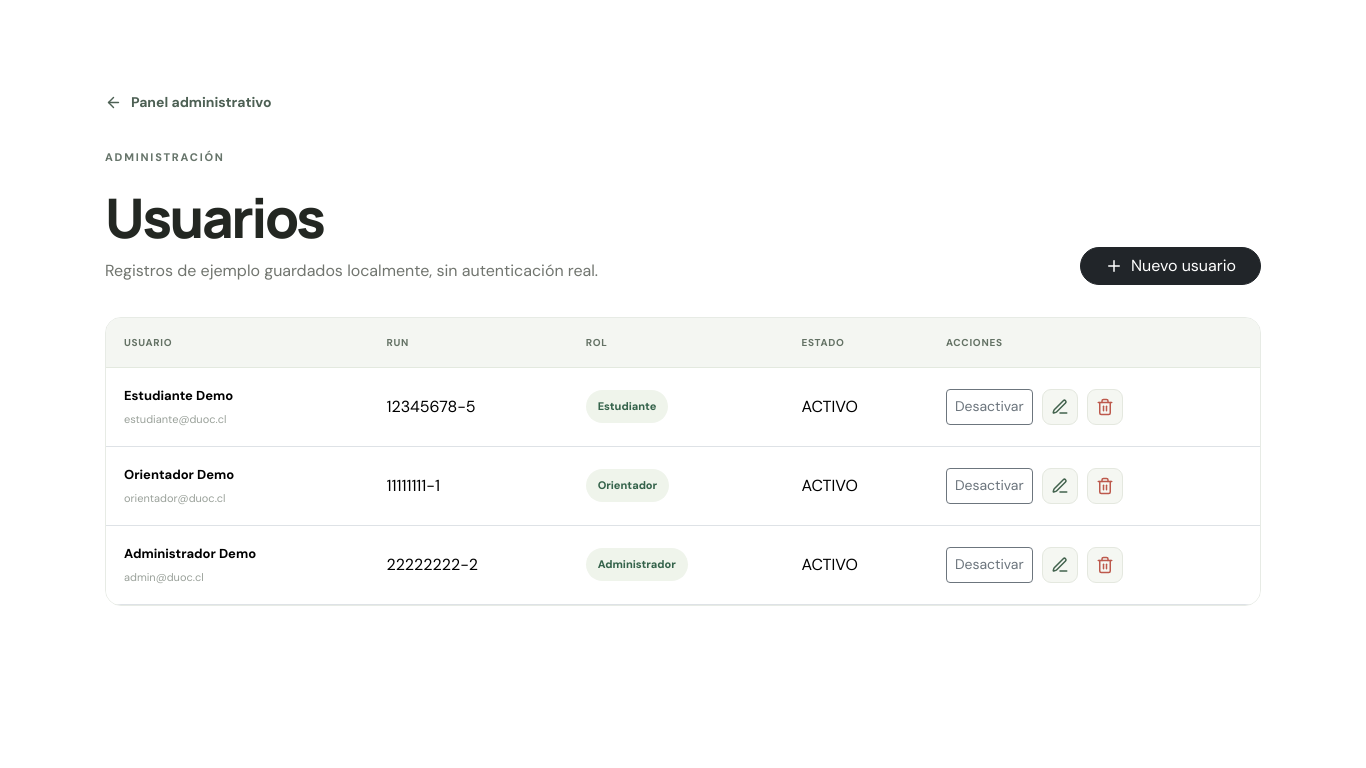
Test case: Registro y usuarios › muestra usuarios y elimina uno con confirmación
Expected: the number of rows with test id "admin-usuario-row" is 3, [106,367,1260,446]; [106,446,1260,525]; [106,525,1260,604]
What coordinates should you click on to do the following:
click the button named "eliminar usuario"
I would click on:
 (1105, 407)
Its box is [1087,389,1123,425].
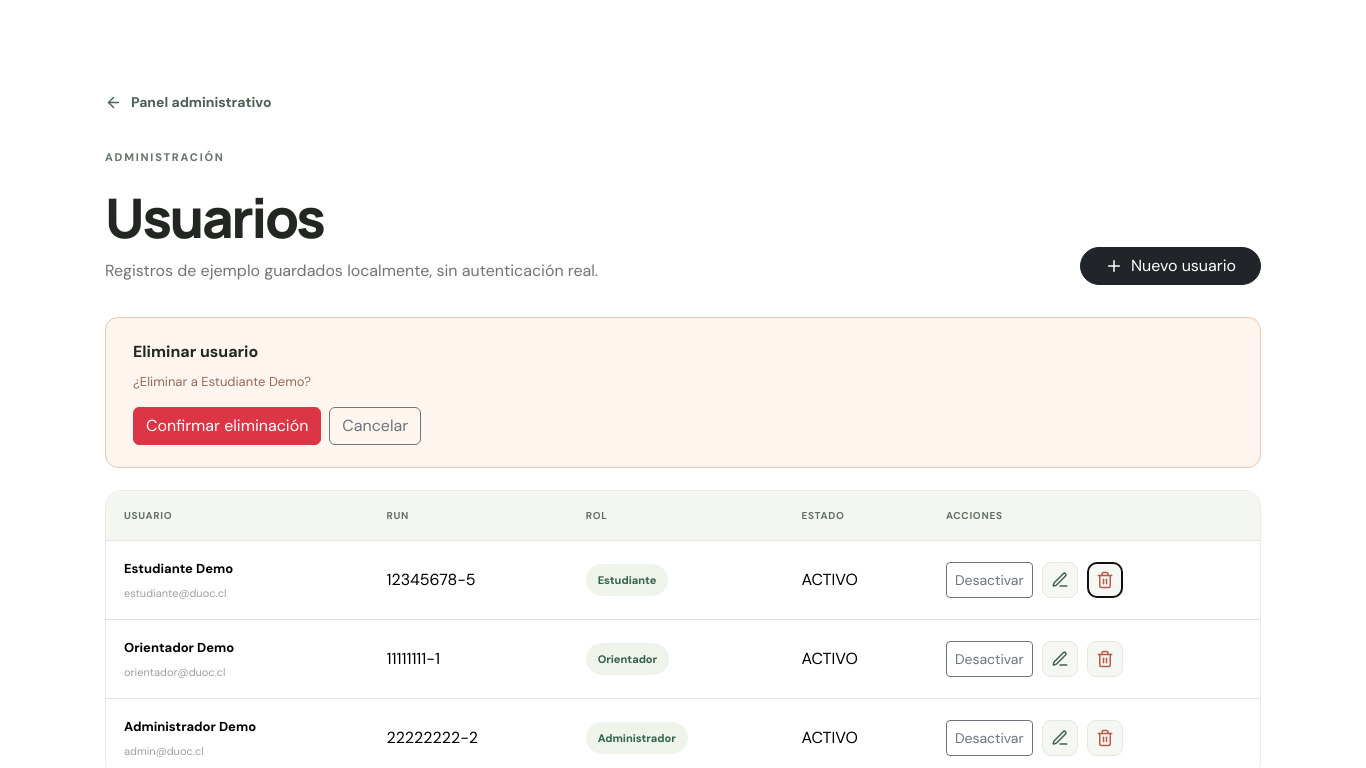
What coordinates should you click on to do the following:
click the button "Confirmar eliminación"
I would click on:
 (227, 426)
Its box is [133,407,321,445].
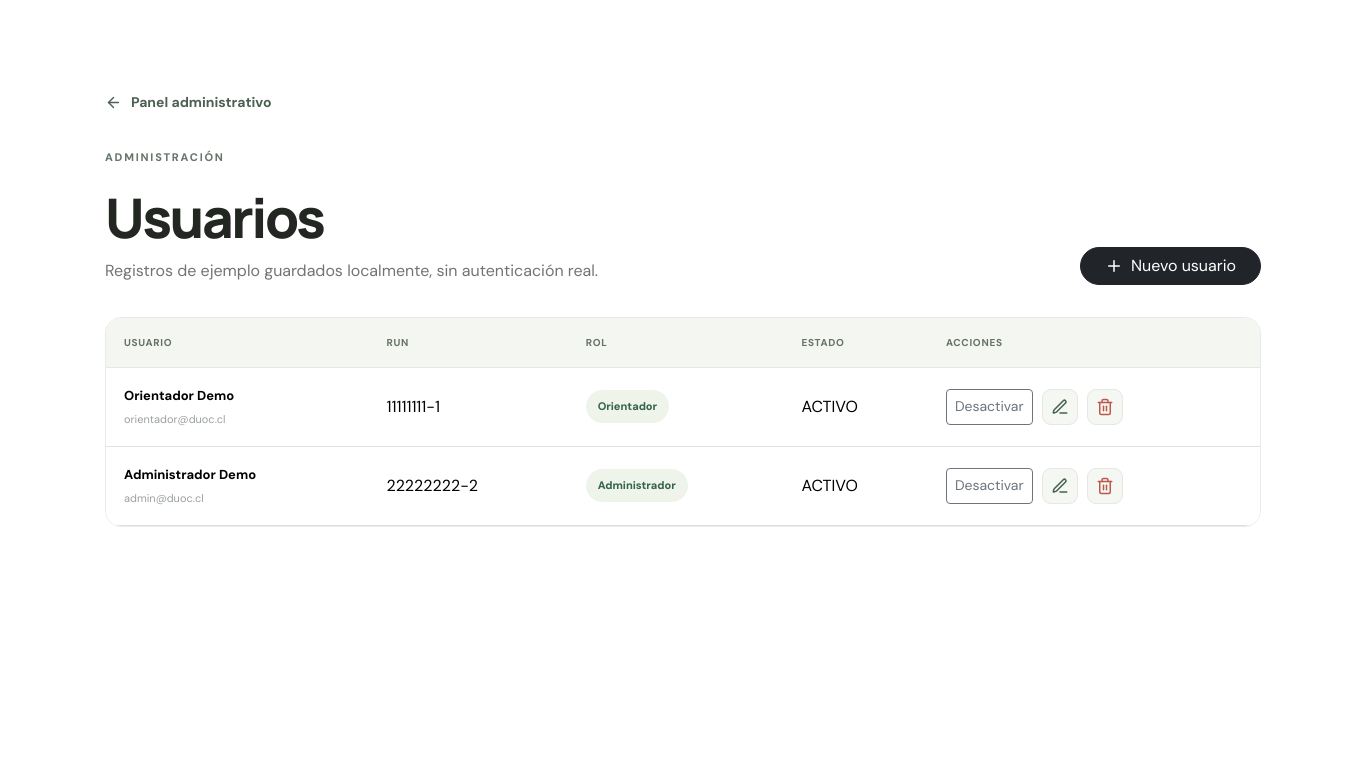
Expected: the number of rows with test id "admin-usuario-row" is 2, [106,367,1260,446]; [106,446,1260,525]
